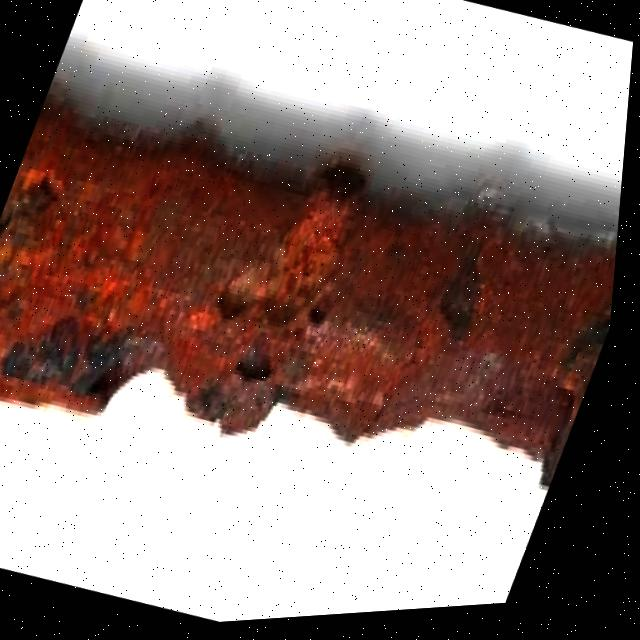corrosion: (0, 105, 622, 489)
